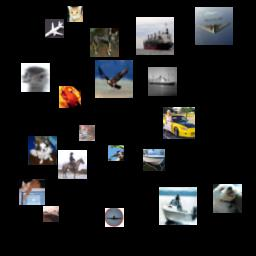airplane: (195, 7, 233, 45), (45, 19, 64, 38), (105, 208, 124, 227), (43, 206, 59, 222)
automobile: (163, 107, 195, 139)
bird: (95, 60, 133, 98), (21, 63, 50, 92), (108, 145, 124, 161)
cat: (19, 179, 45, 205), (79, 125, 95, 141), (67, 6, 83, 22)
dog: (90, 28, 119, 57), (28, 136, 57, 165), (213, 184, 242, 213)
frog: (59, 86, 81, 108)
ship: (159, 187, 197, 225), (136, 17, 174, 55), (148, 67, 177, 96), (143, 149, 165, 171)
